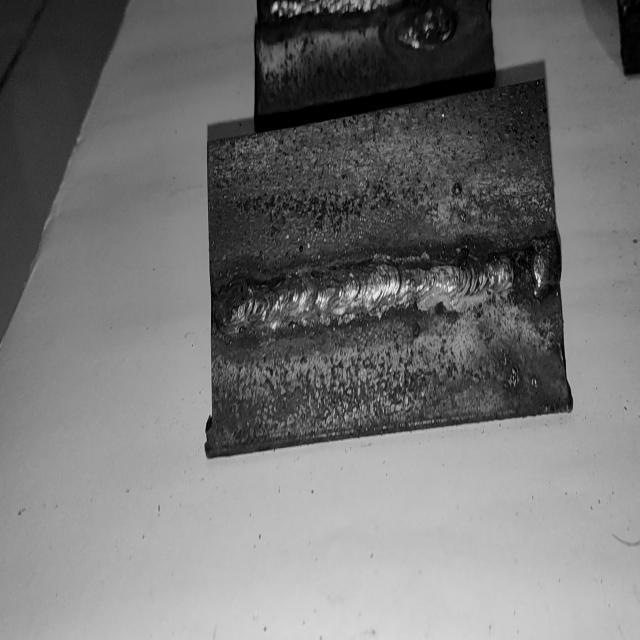Defect: (507, 229, 560, 302)
Welding Line: (220, 241, 562, 337)
Workpiece: (202, 88, 564, 456)
